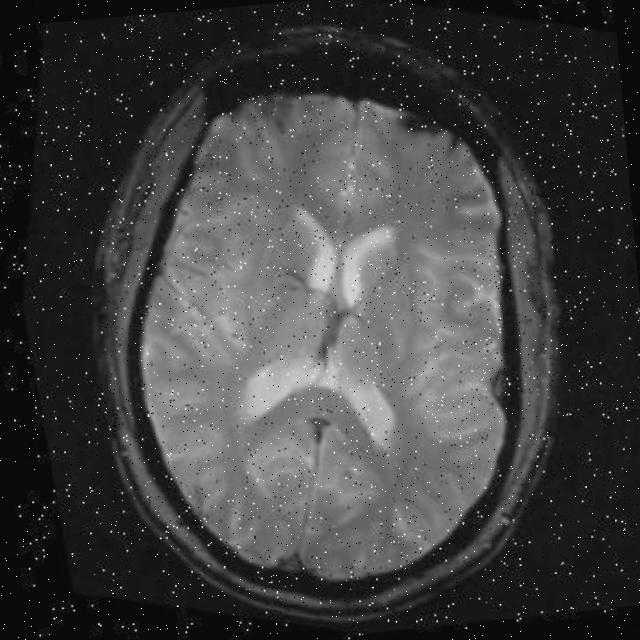EMCI: (437, 320, 538, 442), (206, 75, 310, 160), (379, 102, 474, 180)
